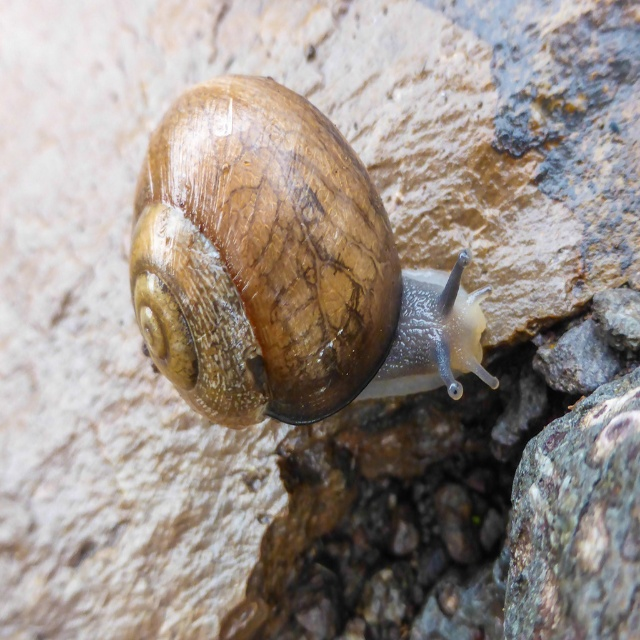Snail: (122, 70, 500, 433)
